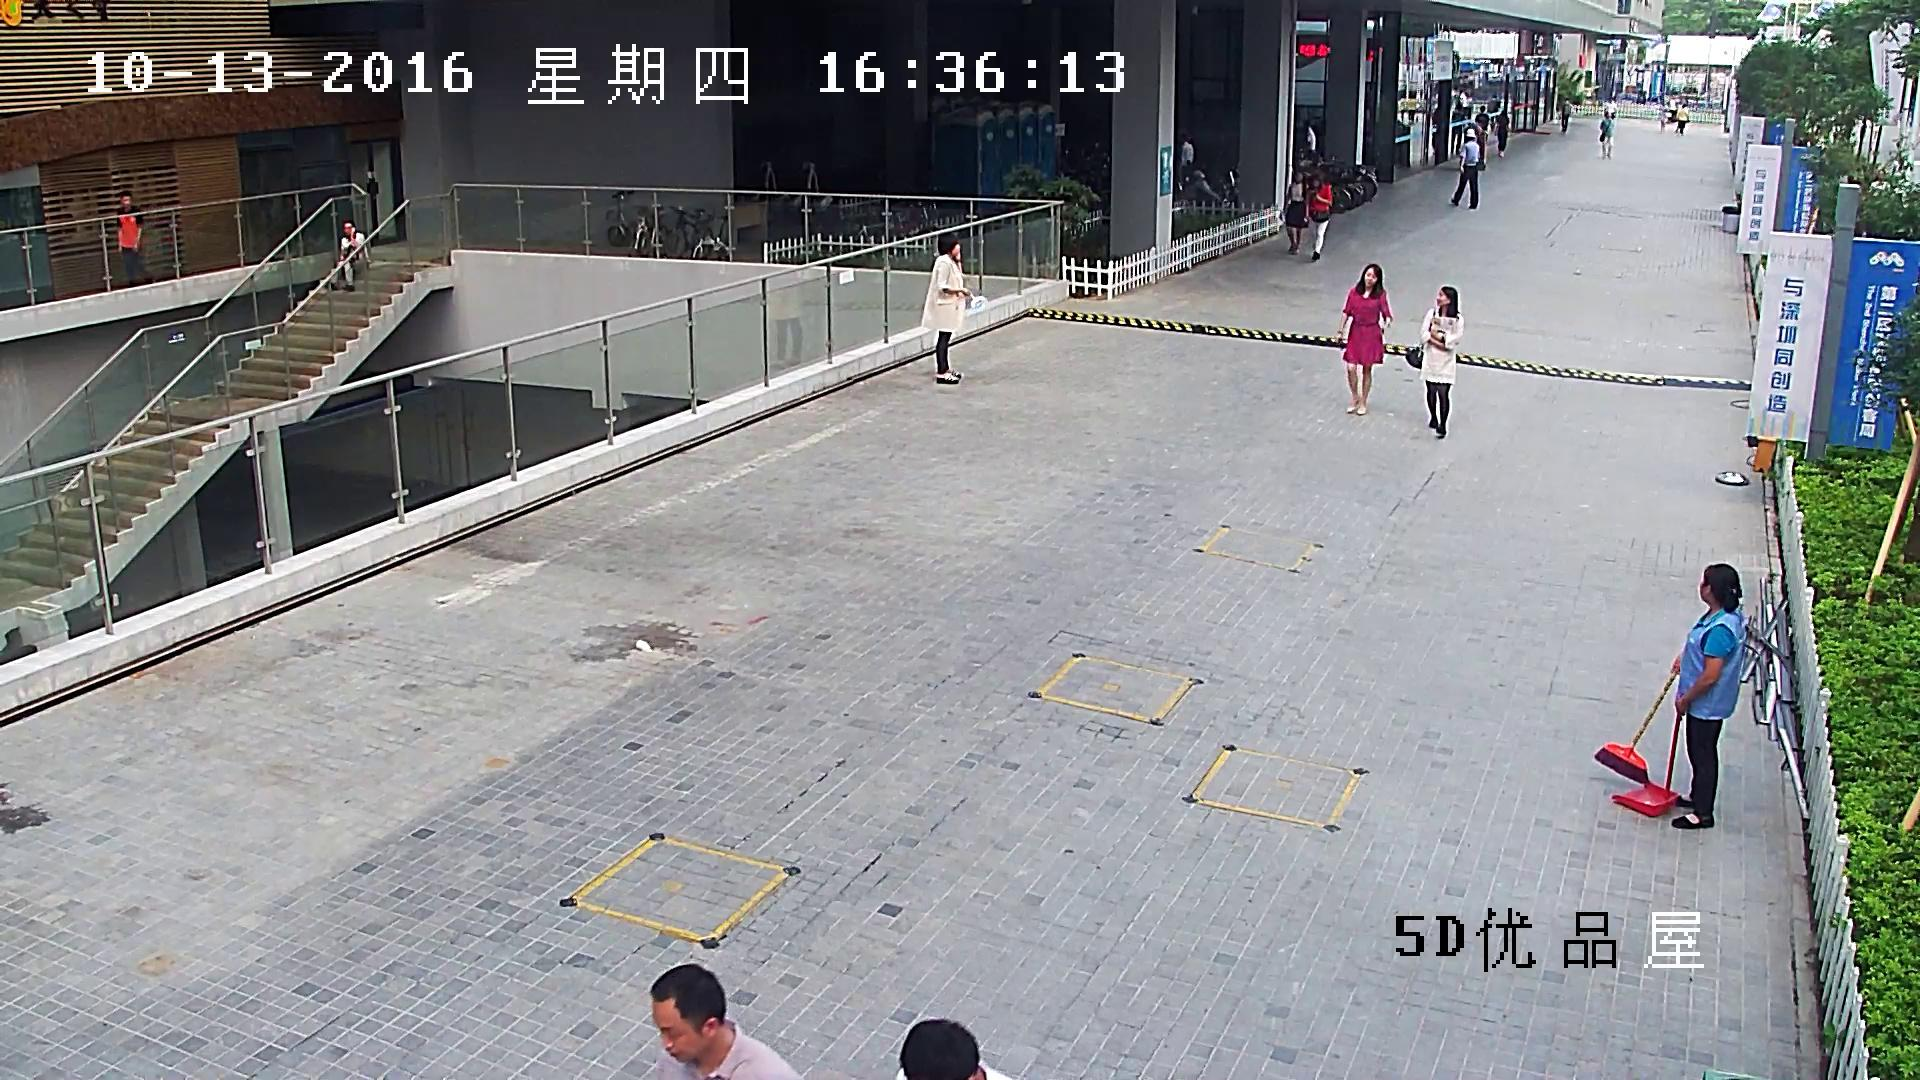person: (1594, 561, 1745, 830), (1671, 563, 1746, 830), (651, 964, 805, 1080), (922, 236, 987, 385), (1335, 263, 1393, 415), (1406, 286, 1463, 436), (115, 191, 154, 288), (324, 220, 369, 291), (1450, 127, 1485, 209), (1305, 174, 1332, 262), (1283, 167, 1307, 255), (1599, 112, 1615, 157), (1494, 110, 1508, 158), (1474, 104, 1489, 143), (1672, 103, 1689, 135), (1560, 97, 1572, 133)
